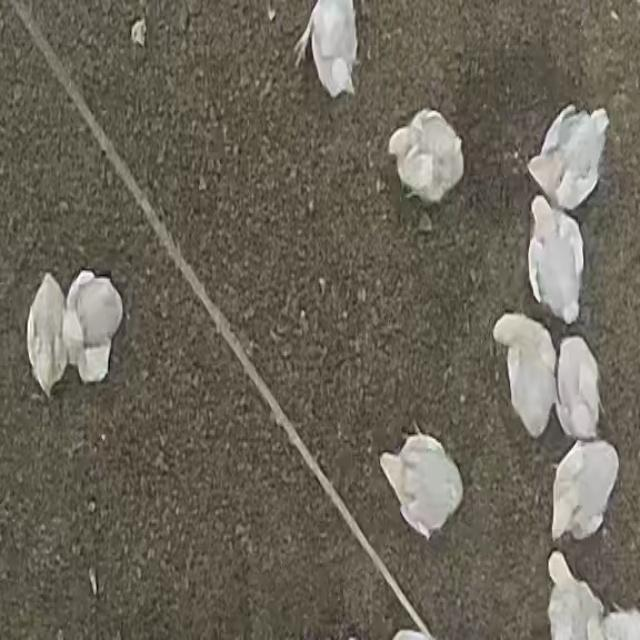chicken: (377, 424, 468, 540), (525, 104, 614, 215), (526, 194, 591, 328), (490, 308, 554, 438), (386, 106, 465, 210), (549, 438, 619, 542), (64, 270, 124, 383), (544, 549, 606, 640), (26, 273, 71, 398), (558, 334, 608, 439)
